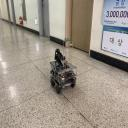cart: (49, 60, 77, 94)
